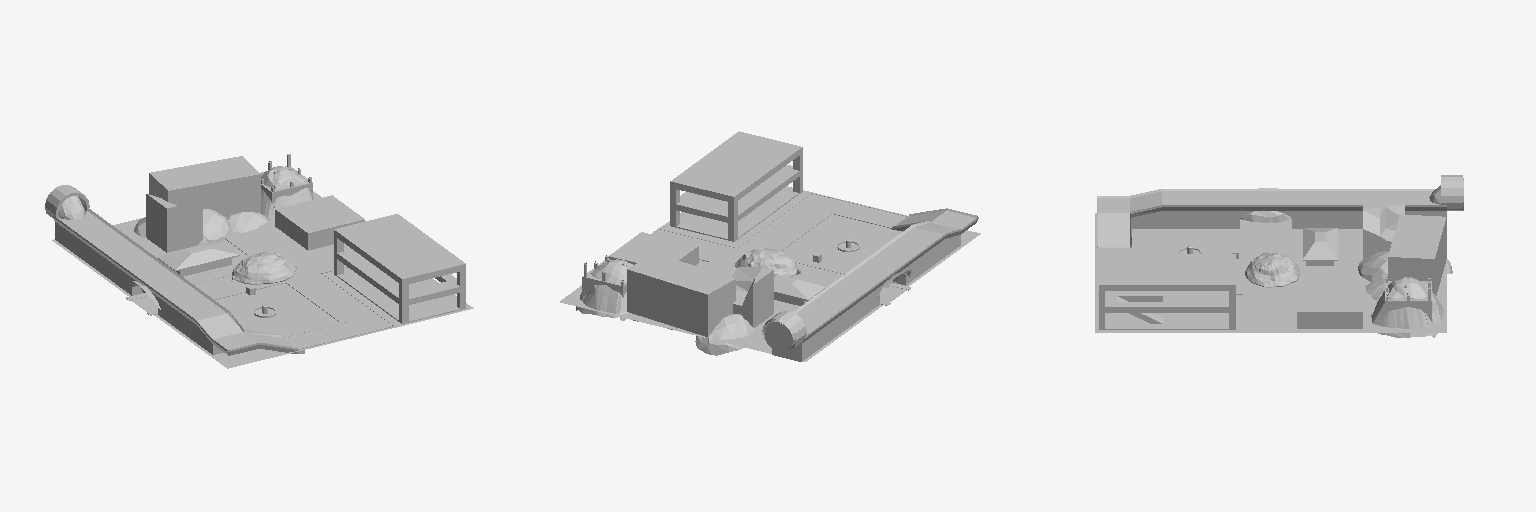
Rendered from White_Box_Projecttest.obj.
3 views of the same model, side by side, from view 1: azimuth 30°, elevation 25°; view 2: azimuth 150°, elevation 25°; view 3: azimuth 270°, elevation 25° (orthographic).
Visible parts, largest first — view 1: Parking_G, Bridge, Ground, Road.001, Building_Debris, Building_2.001, Building_1, Diner, Sphere, Road, Plane.003, Plane (+2 smaller); view 2: Parking_G, Bridge, Building_Debris, Ground, Road.001, Building_1, Plane.003, Building_2.001, Parking_G.001, Plane.002, Sphere, Road (+1 smaller); view 3: Bridge, Parking_G, Ground, Road.001, Building_Debris, Building_2.001, Plane.003, Building_1, Sphere, Road, Diner, Parking_G.001 (+2 smaller).
Part boxes in pixels (bbox=[...]): Parking_G: bbox=[334, 214, 465, 323]; Bridge: bbox=[53, 209, 304, 355]; Ground: bbox=[52, 191, 473, 368]; Road.001: bbox=[131, 228, 391, 348]; Building_Debris: bbox=[149, 156, 260, 217]; Building_2.001: bbox=[275, 195, 364, 250]; Building_1: bbox=[146, 194, 202, 252]; Diner: bbox=[158, 242, 239, 276]; Sphere: bbox=[232, 252, 296, 284]; Road: bbox=[126, 225, 393, 349]; Plane.003: bbox=[261, 166, 313, 220]; Plane: bbox=[197, 209, 232, 245]; Parking_G: bbox=[670, 131, 802, 241]; Bridge: bbox=[772, 208, 978, 361]; Building_Debris: bbox=[627, 253, 735, 336]; Ground: bbox=[560, 186, 980, 361]; Road.001: bbox=[638, 194, 906, 327]; Building_1: bbox=[732, 266, 773, 327]; Plane.003: bbox=[576, 259, 632, 320]; Building_2.001: bbox=[609, 232, 698, 265]; Parking_G.001: bbox=[762, 311, 806, 351]; Plane.002: bbox=[695, 314, 754, 355]; Sphere: bbox=[735, 247, 798, 276]; Road: bbox=[632, 193, 910, 329]; Bridge: bbox=[1097, 189, 1446, 247]; Parking_G: bbox=[1099, 254, 1235, 329]; Ground: bbox=[1095, 213, 1446, 332]; Road.001: bbox=[1098, 221, 1446, 332]; Building_Debris: bbox=[1388, 214, 1446, 295]; Building_2.001: bbox=[1297, 284, 1362, 328]; Plane.003: bbox=[1371, 277, 1443, 337]; Building_1: bbox=[1363, 204, 1404, 258]; Sphere: bbox=[1245, 252, 1299, 287]; Road: bbox=[1098, 219, 1446, 332]; Diner: bbox=[1303, 228, 1337, 265]; Parking_G.001: bbox=[1441, 175, 1463, 210].
Bounding box in the file's own units: 82.73 × 18.39 × 105.